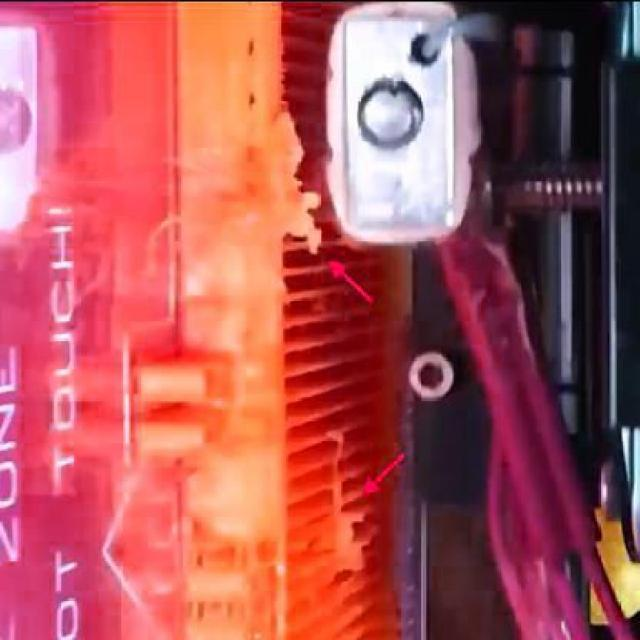spaghetti: (273, 110, 326, 256), (332, 428, 366, 568)
